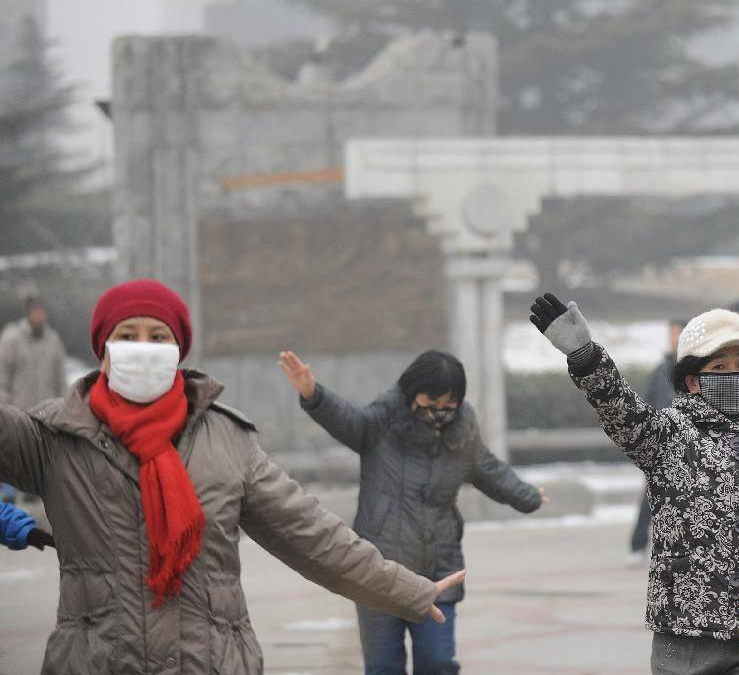person: (1, 277, 467, 675), (273, 346, 555, 675), (529, 286, 739, 671), (1, 295, 75, 507)
